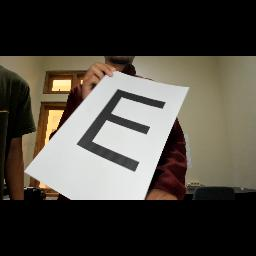e: (74, 85, 168, 179)
